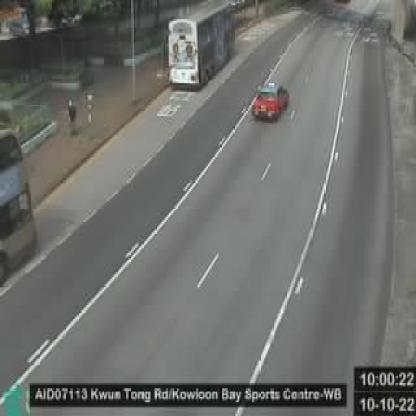Bus: (169, 2, 236, 87)
Car: (250, 80, 288, 122)
